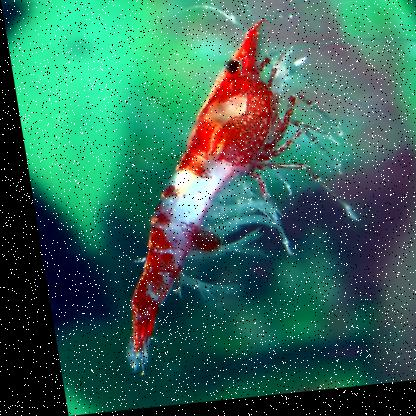shrimp: (66, 9, 352, 381)
